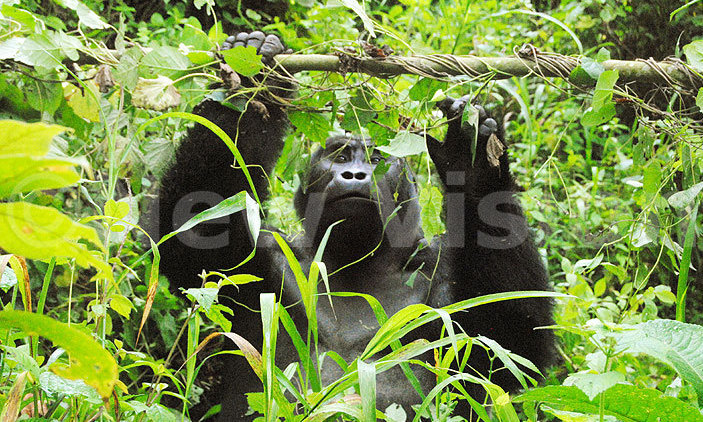Goriila: (143, 13, 575, 421)
